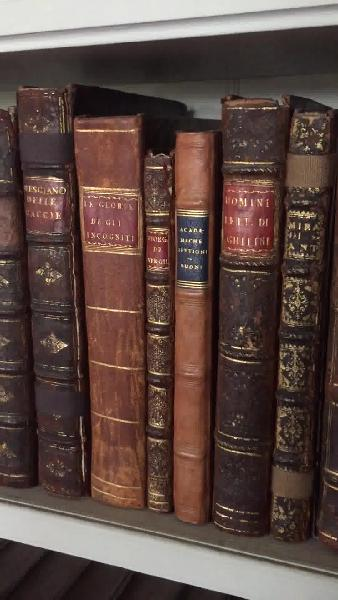Aa6-32: (14, 82, 96, 500)
Aa6-33: (71, 114, 148, 517)
Aa6-34: (137, 151, 175, 508)
Aa6-35: (172, 124, 222, 504)
Aa6-36: (207, 85, 278, 507)
Aa6-37: (277, 101, 338, 545)
